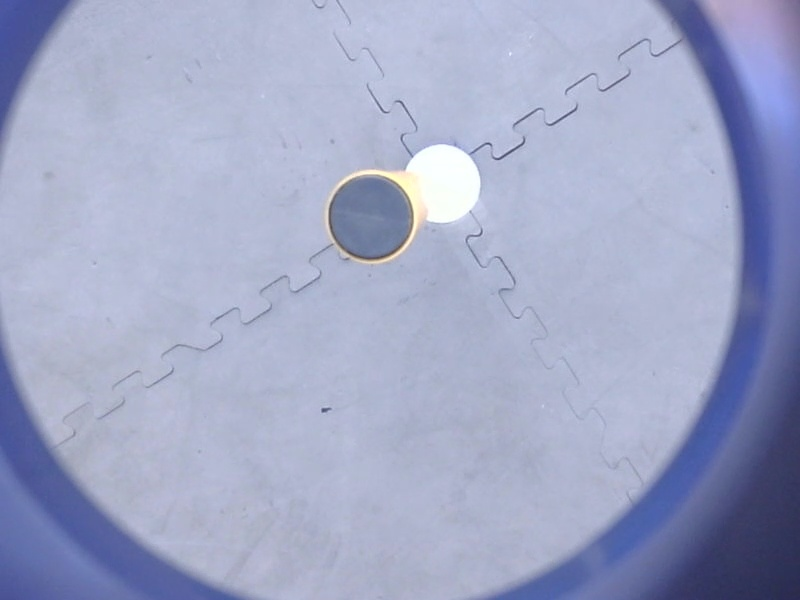tip: (319, 164, 423, 268)
